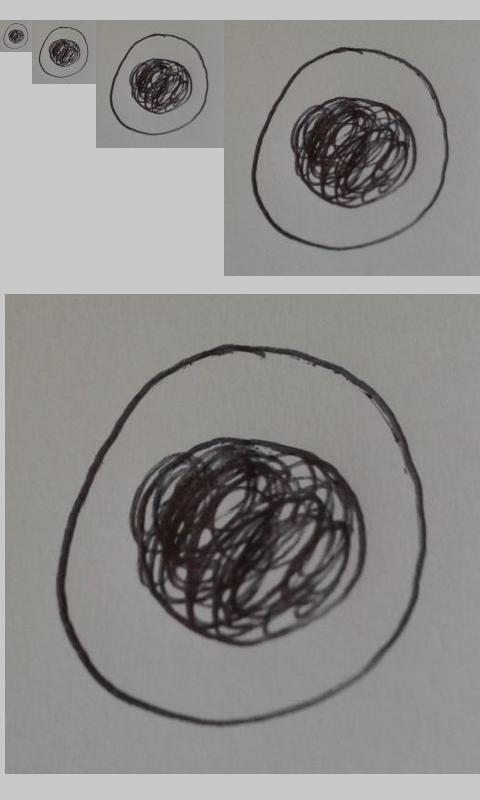radio_button: (52, 341, 430, 730), (248, 45, 452, 255), (108, 32, 211, 137), (37, 25, 90, 79), (2, 22, 29, 50)
